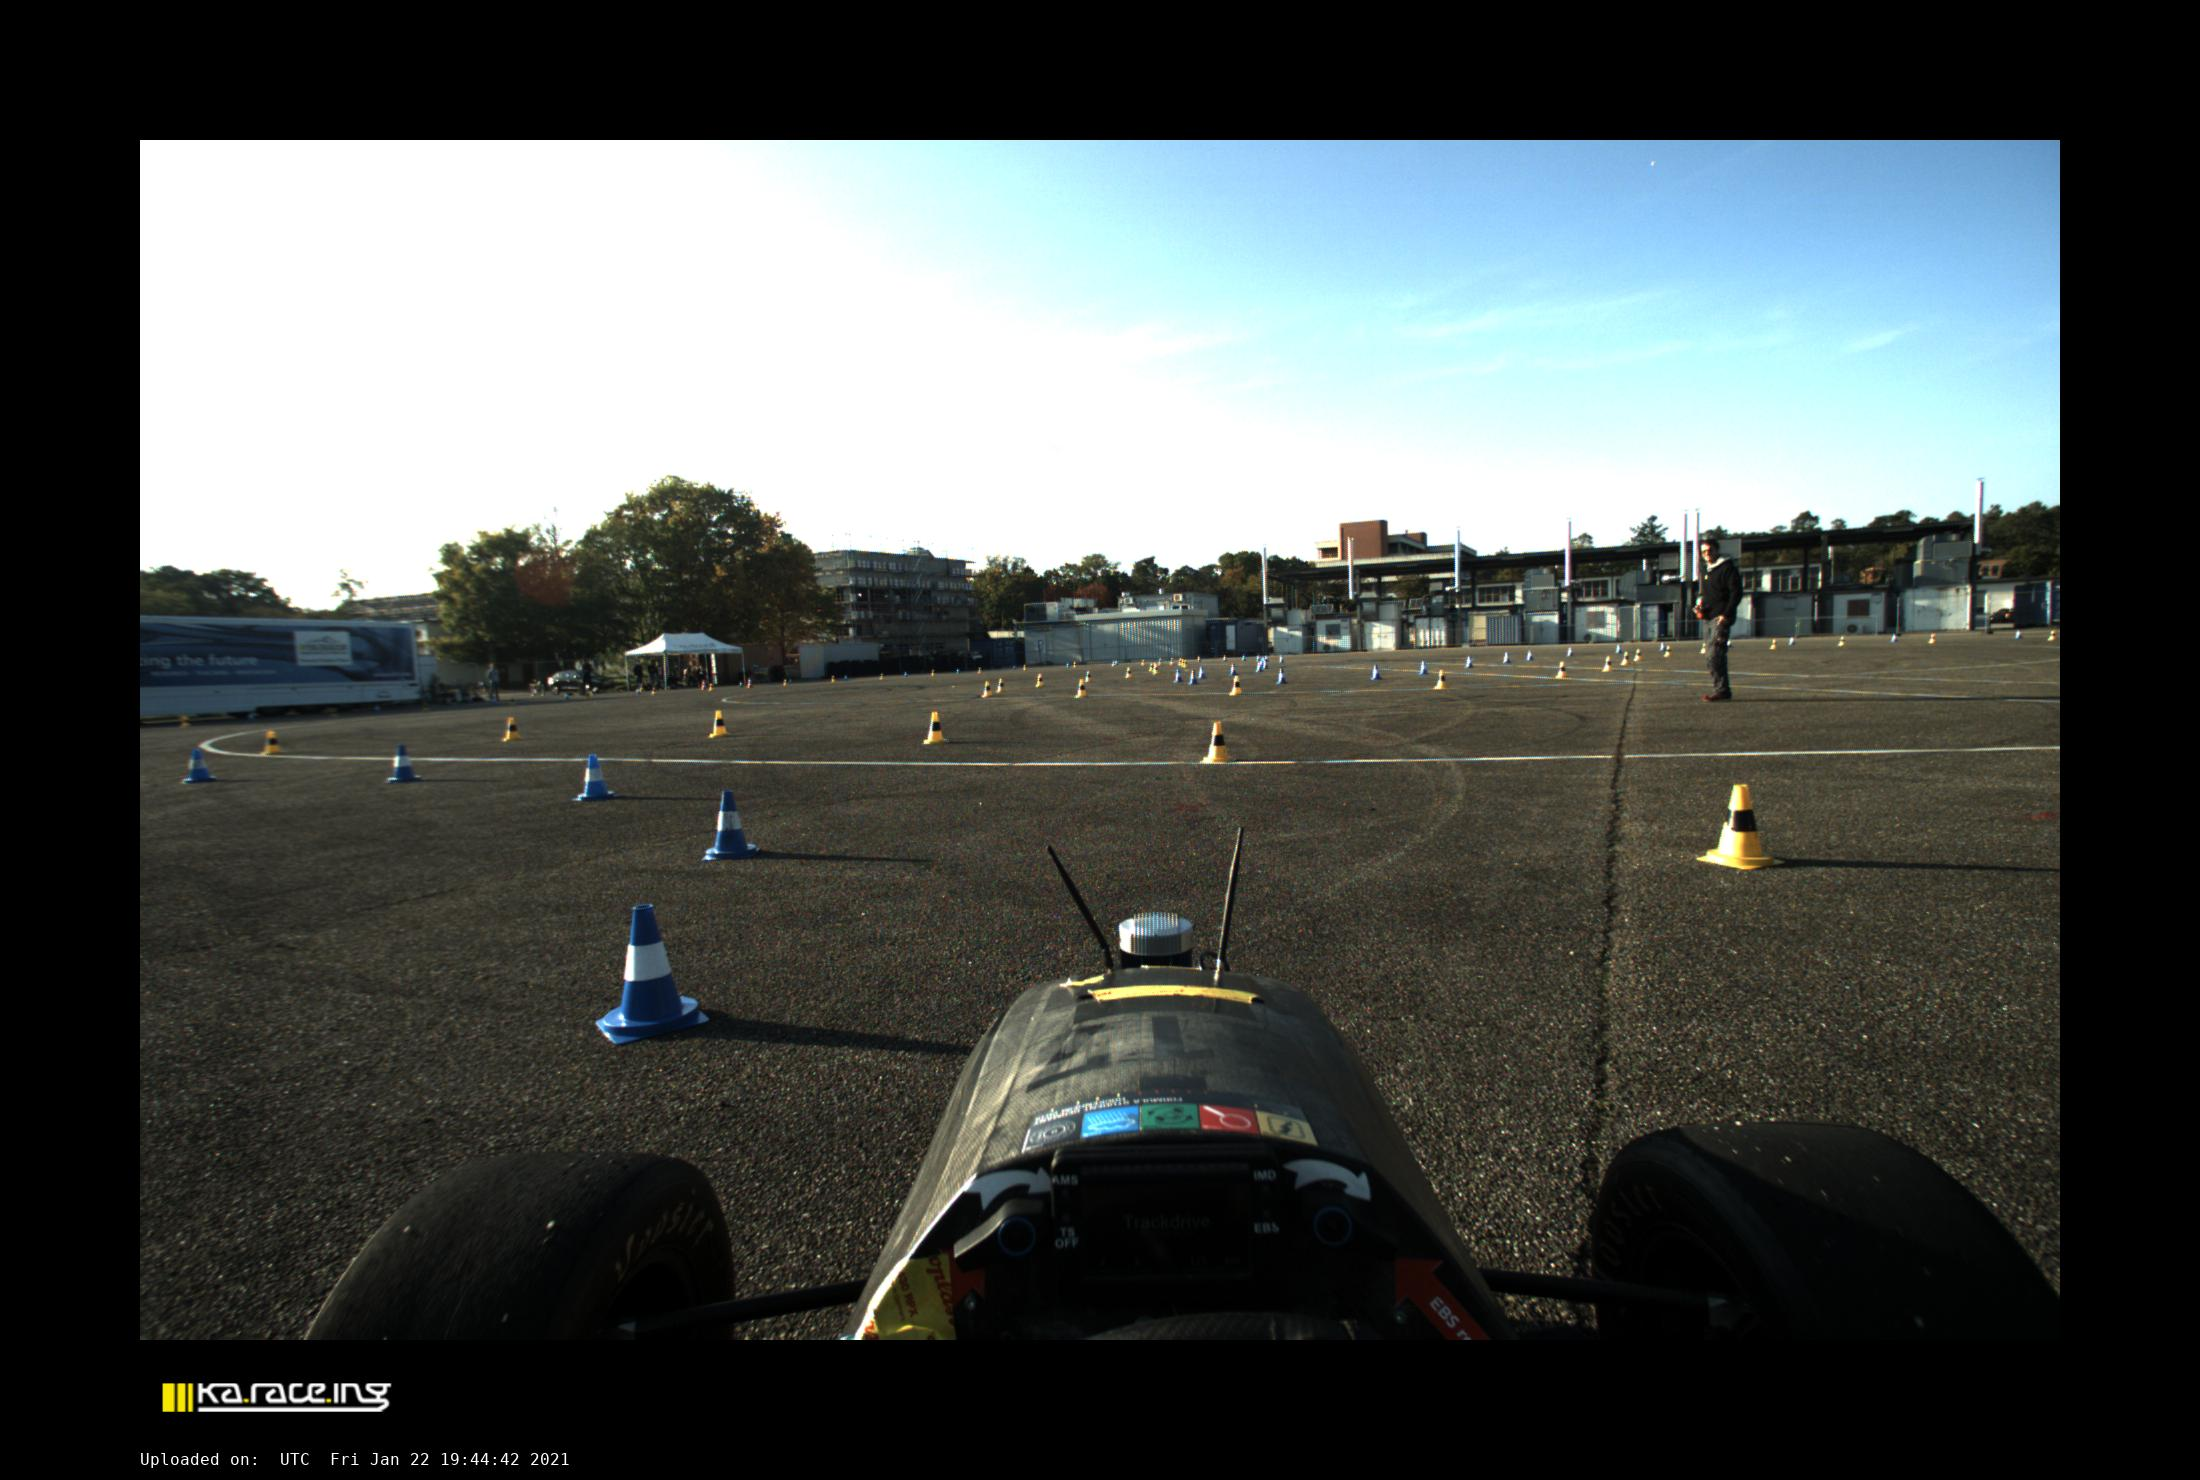blue_cone: (596, 905, 709, 1046), (700, 790, 760, 861), (571, 755, 618, 801), (385, 743, 424, 783), (182, 748, 216, 781), (1369, 664, 1382, 681), (1275, 667, 1287, 684), (1415, 661, 1429, 674), (1188, 669, 1197, 685), (1227, 662, 1239, 676), (1255, 657, 1265, 672), (1173, 669, 1183, 682), (1463, 656, 1473, 667), (1501, 651, 1511, 662), (1197, 666, 1206, 679), (2013, 629, 2023, 639), (1567, 644, 1574, 657), (1615, 643, 1624, 652), (1658, 643, 1667, 652), (1526, 649, 1533, 661), (1889, 634, 1898, 643), (1789, 634, 1795, 644)
yellow_cone: (1696, 783, 1784, 870), (1204, 720, 1232, 761), (922, 710, 946, 743), (709, 710, 730, 738), (504, 717, 524, 742), (263, 730, 282, 753), (1227, 676, 1244, 695), (1434, 669, 1450, 689), (1554, 661, 1571, 679), (1075, 679, 1087, 699), (994, 677, 1006, 694), (1602, 656, 1614, 672), (983, 681, 993, 699), (1619, 651, 1629, 666), (1034, 672, 1042, 689), (1632, 647, 1642, 661), (1926, 631, 1936, 644), (2046, 629, 2056, 641), (1150, 662, 1159, 674), (1125, 666, 1133, 677), (1663, 646, 1671, 657), (1769, 639, 1777, 651), (1838, 634, 1847, 646), (1085, 671, 1092, 682), (1700, 643, 1706, 654)
